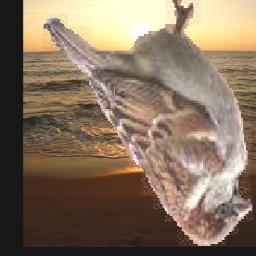Sparrow: (43, 0, 251, 246)
